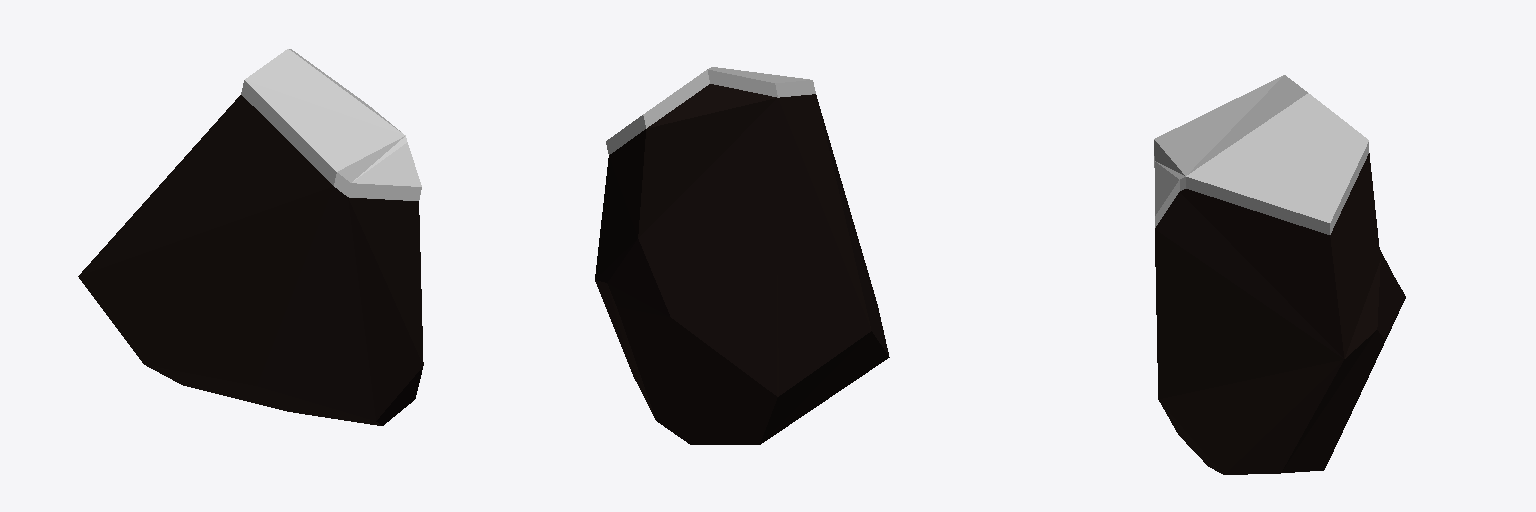
The model's file is Rock_9.obj.
3 views of the same model, side by side, from view 1: azimuth 30°, elevation 25°; view 2: azimuth 150°, elevation 25°; view 3: azimuth 270°, elevation 25° (orthographic).
Parts seen in each view (by area): view 1: Cube.002; view 2: Cube.002; view 3: Cube.002.
Part boxes in pixels (x1,y1,x2,y2): Cube.002: (78, 49, 423, 425); Cube.002: (595, 67, 889, 444); Cube.002: (1154, 75, 1405, 474).
Size of the model in its own units: 1.35 by 1.7 by 1.05.